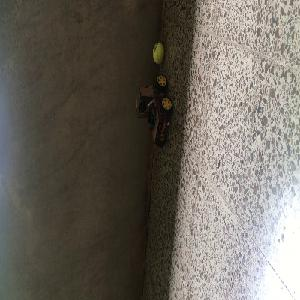Ball: (152, 44, 164, 63)
Robot: (135, 76, 173, 147)
